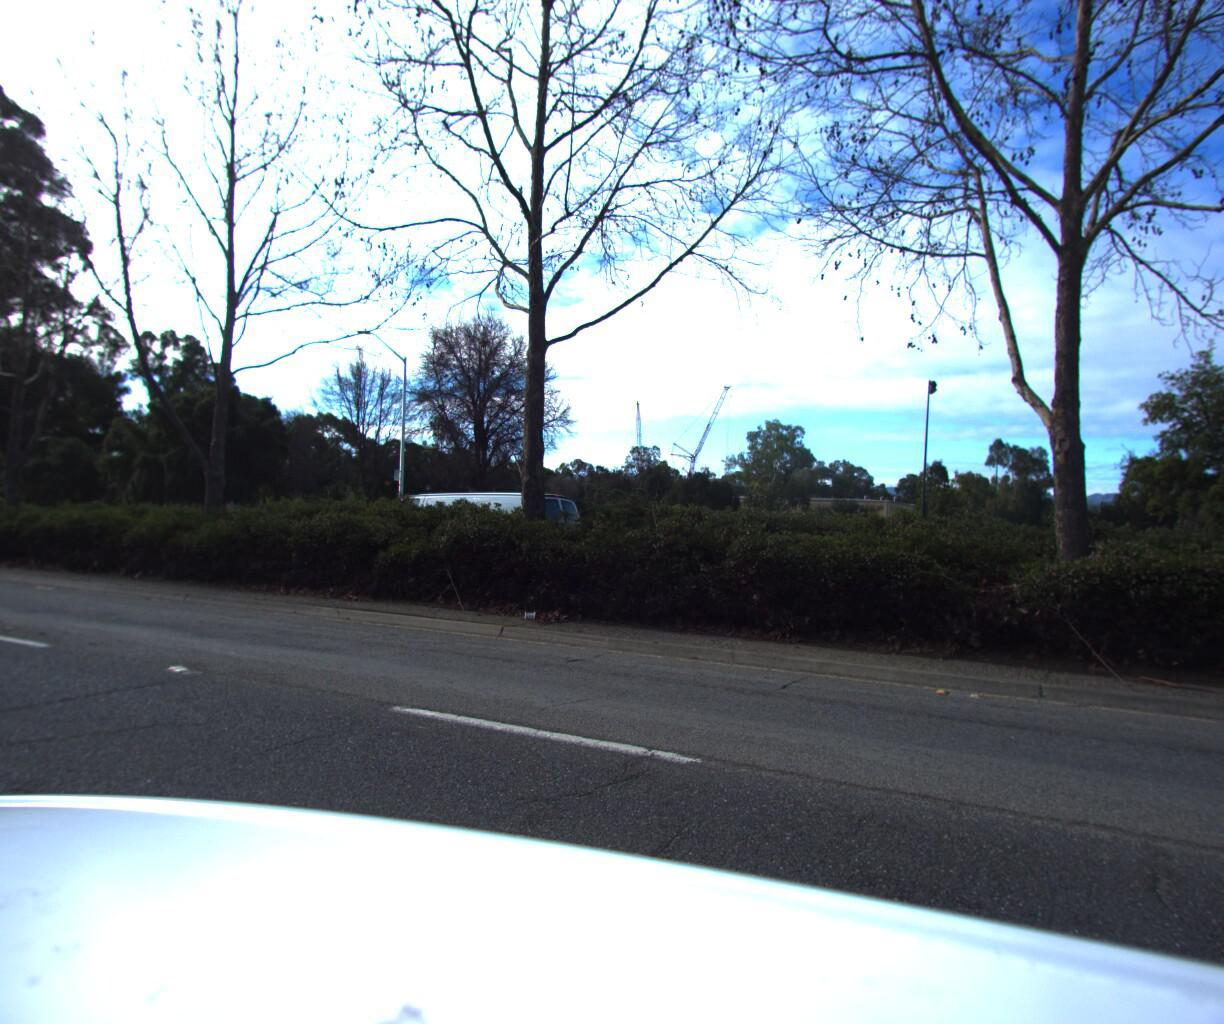car: (367, 486, 595, 600)
